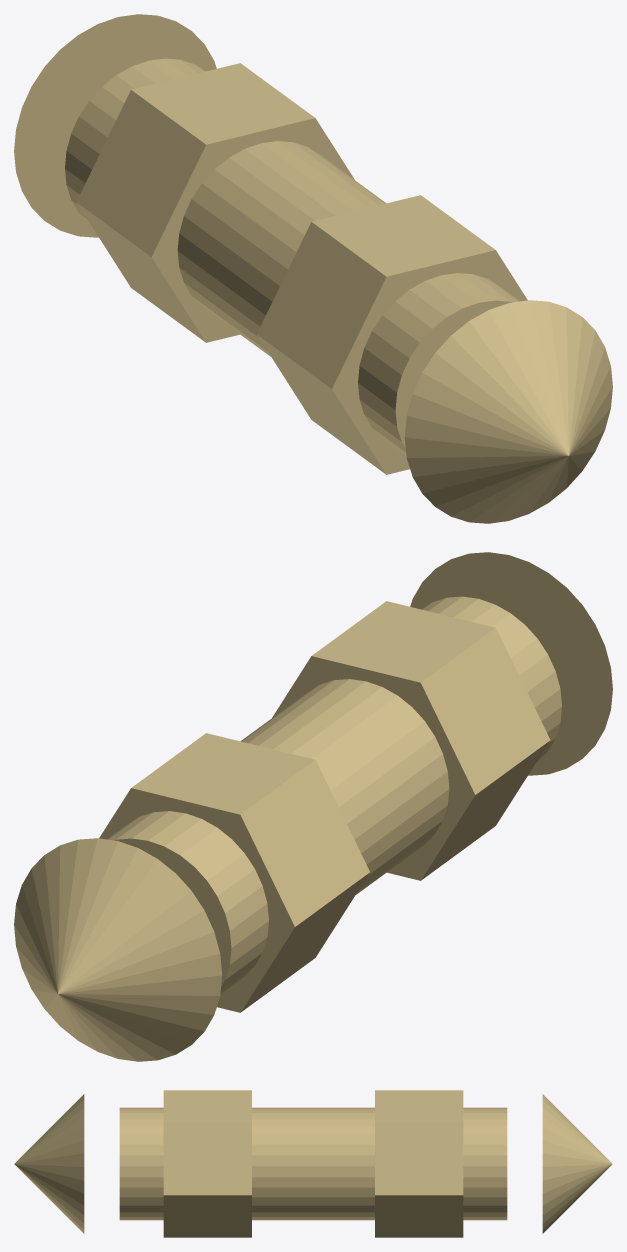
File: an818-fitting.glb
3 views of the same model, one above another, from view 1: azimuth 30°, elevation 25°; view 2: azimuth 150°, elevation 25°; view 3: azimuth 270°, elevation 25° (orthographic). The views are drawn at different scales.
Visible parts, largest first — view 1: world; view 2: world; view 3: world.
Boxes of the visible parts, <box> form: world: <box>14,14,612,523</box>; world: <box>14,552,612,1061</box>; world: <box>14,1090,612,1237</box>.
Bounding box in the file's own units: 0.42 × 0.4 × 1.7.
